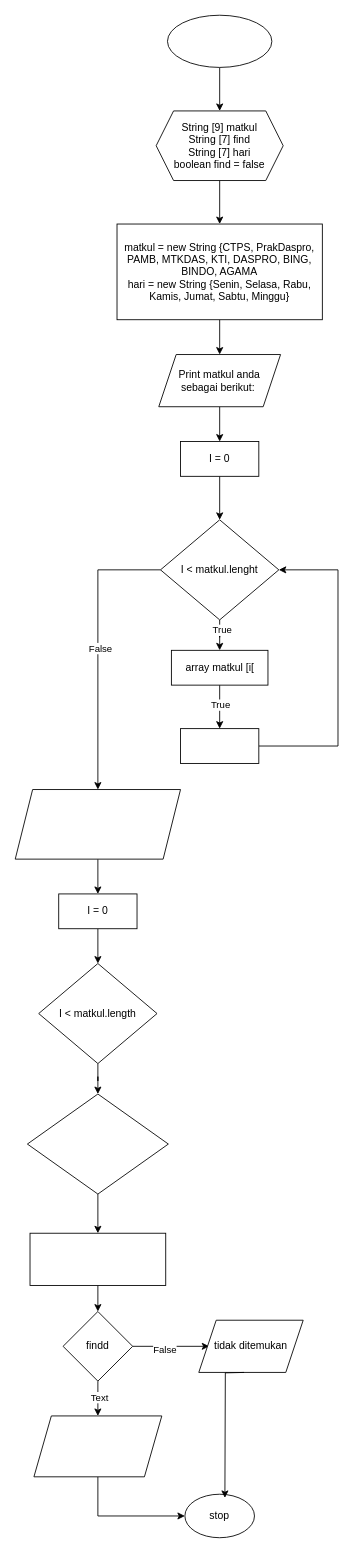
This 360x1553 diagram has some shape labels left out. Each missing label, with the centre of its shape:
findd = true hasil = matkul [i] = hari [i]: (97,1258)
i ++: (219,745)
matkul yang anda cari ada di hari :: (97,1446)
matkul[i].equals(Inpmatkul): (97,1143)
Print matkul yang ingin dicari String inptMatkul: (97,824)
Start: (219,40)
